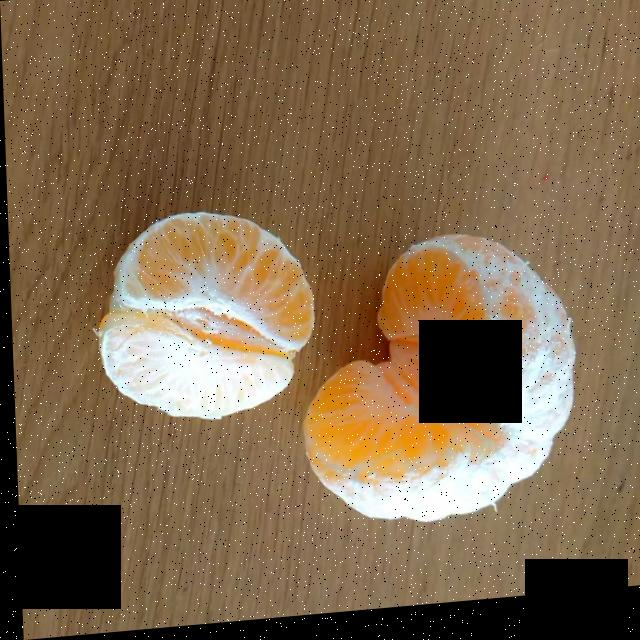mandarine: (99, 209, 585, 530)
